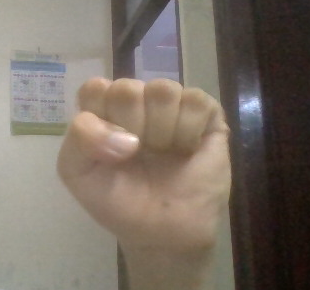click: (39, 76, 244, 245)
